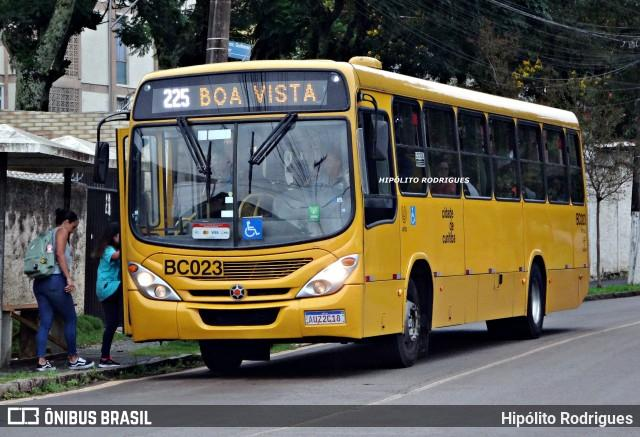BOA VISTA: (195, 76, 320, 110)
